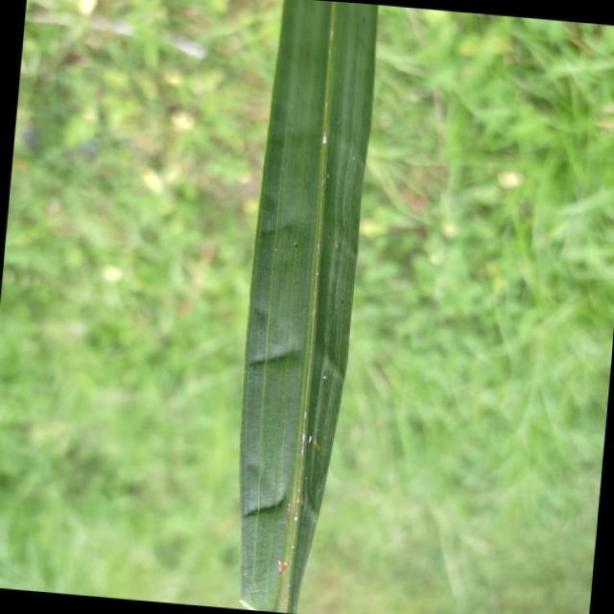Boron: (238, 0, 376, 609)
